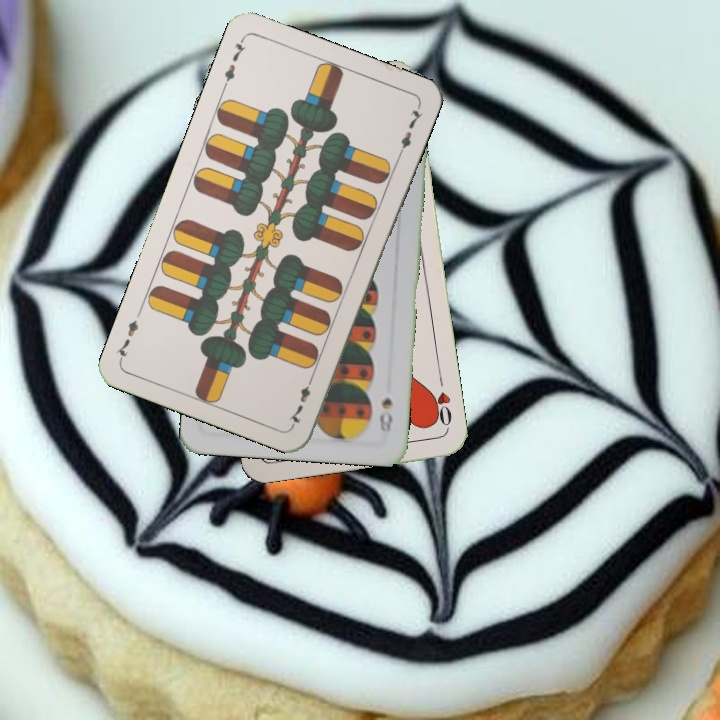E7: (285, 371, 317, 428), (219, 34, 249, 91)
HO: (426, 372, 454, 431)
S8: (375, 393, 395, 435)
